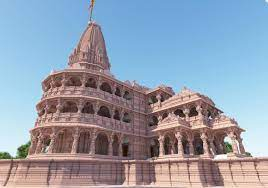Temple: (30, 16, 251, 172)
